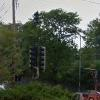Tree: (21, 8, 81, 81)
